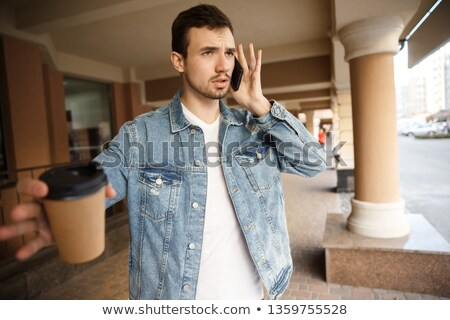phone: (226, 50, 246, 99)
talk: (198, 42, 270, 112)
